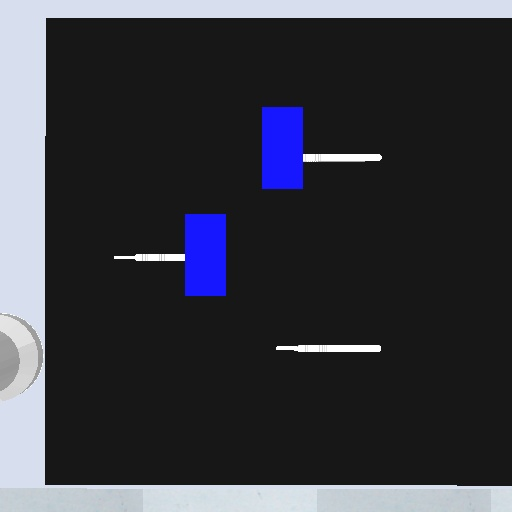bisturi: (274, 342, 386, 356), (303, 151, 384, 164), (111, 250, 186, 263)
